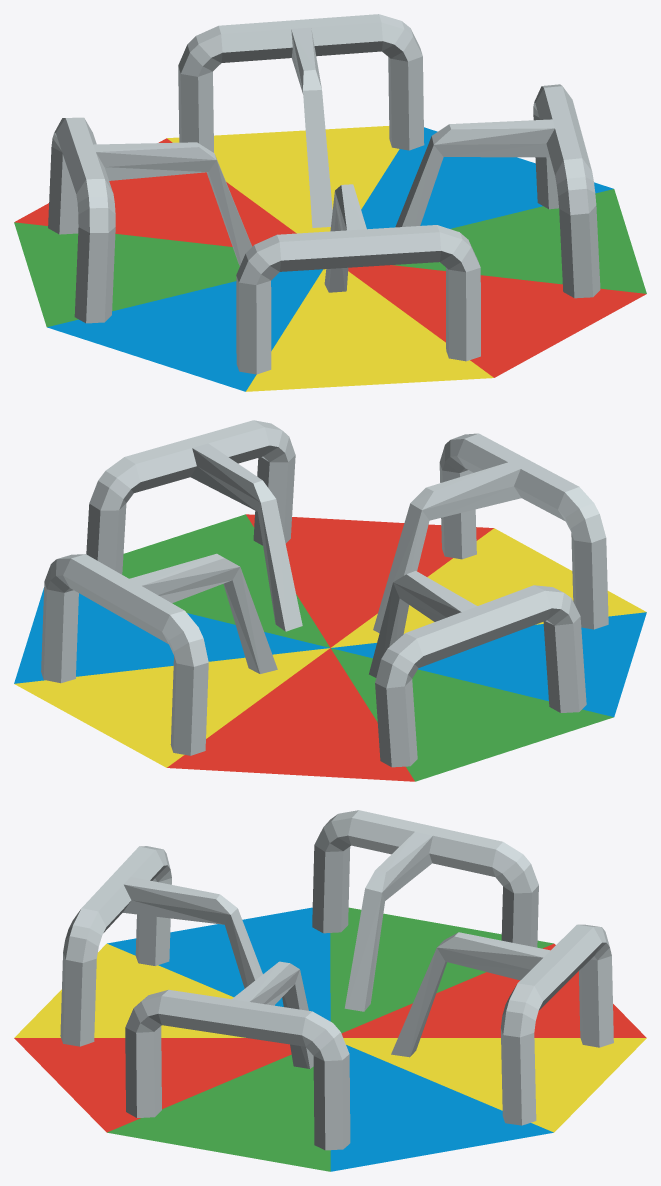
Rendered from Merry go 'round.glb.
3 views of the same model, one above another, from view 1: azimuth 30°, elevation 25°; view 2: azimuth 150°, elevation 25°; view 3: azimuth 270°, elevation 25° (orthographic). The views are drawn at different scales.
Visible parts, largest first — view 1: group1857094099, group1336431137, group1426769482, group1688855195, group666132522; view 2: group1857094099, group1336431137, group1688855195, group666132522, group1426769482; view 3: group1857094099, group1688855195, group666132522, group1336431137, group1426769482.
Boxes of the visible parts, x1,y1,x2,y2 form: group1857094099: [14, 126, 646, 391]; group1336431137: [178, 14, 424, 227]; group1426769482: [236, 184, 480, 374]; group1688855195: [48, 117, 252, 323]; group666132522: [395, 84, 600, 298]; group1857094099: [14, 514, 646, 781]; group1336431137: [41, 553, 277, 755]; group1688855195: [369, 571, 586, 767]; group666132522: [86, 420, 302, 631]; group1426769482: [373, 433, 608, 633]; group1857094099: [14, 907, 646, 1171]; group1688855195: [312, 810, 538, 1011]; group666132522: [125, 961, 350, 1150]; group1336431137: [391, 924, 613, 1125]; group1426769482: [60, 846, 274, 1046].
Bounding box in the file's own units: 1.22 × 0.356 × 1.22.
